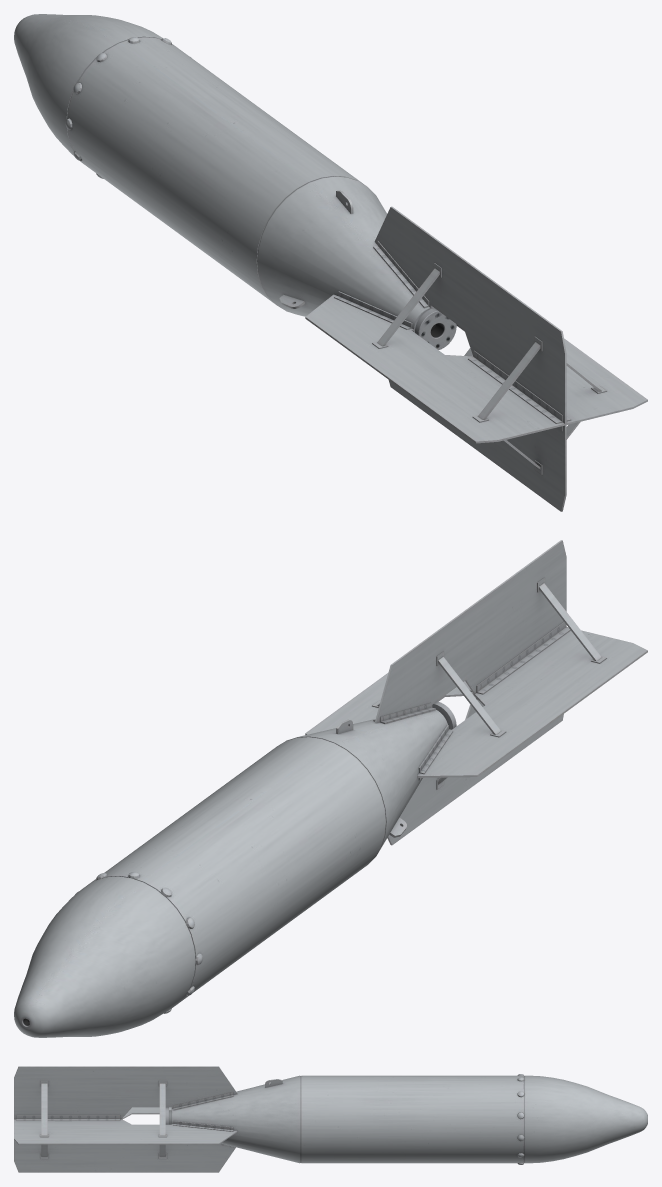
Rendered from fab1000.glb.
The picture shows the model from 3 angles, top to bottom: view 1: azimuth 30°, elevation 25°; view 2: azimuth 150°, elevation 25°; view 3: azimuth 270°, elevation 25°; orthographic projection. The views are drawn at different scales.
Parts seen in each view (by area): view 1: F1K_body, F1K_fins, F1K_angles, F1K_struts; view 2: F1K_body, F1K_fins, F1K_angles, F1K_struts; view 3: F1K_body, F1K_fins, F1K_angles, F1K_struts, F1K_heads.
Boxes of the visible parts, bbox=[...] form: F1K_body: bbox=[14, 14, 456, 349]; F1K_fins: bbox=[305, 206, 647, 511]; F1K_angles: bbox=[334, 241, 571, 431]; F1K_struts: bbox=[372, 263, 606, 474]; F1K_body: bbox=[14, 701, 456, 1037]; F1K_fins: bbox=[305, 540, 647, 845]; F1K_angles: bbox=[373, 622, 570, 780]; F1K_struts: bbox=[372, 577, 606, 789]; F1K_body: bbox=[165, 1075, 647, 1163]; F1K_fins: bbox=[14, 1066, 237, 1172]; F1K_angles: bbox=[16, 1092, 233, 1147]; F1K_struts: bbox=[40, 1080, 166, 1158]; F1K_heads: bbox=[517, 1074, 524, 1164].
Bounding box in the file's own units: 0.6168 × 0.6168 × 3.35.
4 materials, 4 textured.
